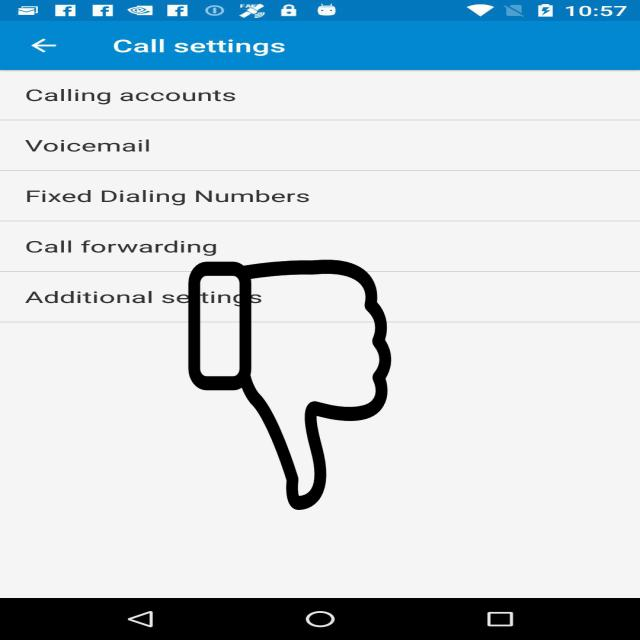obstruction: (186, 260, 394, 510)
